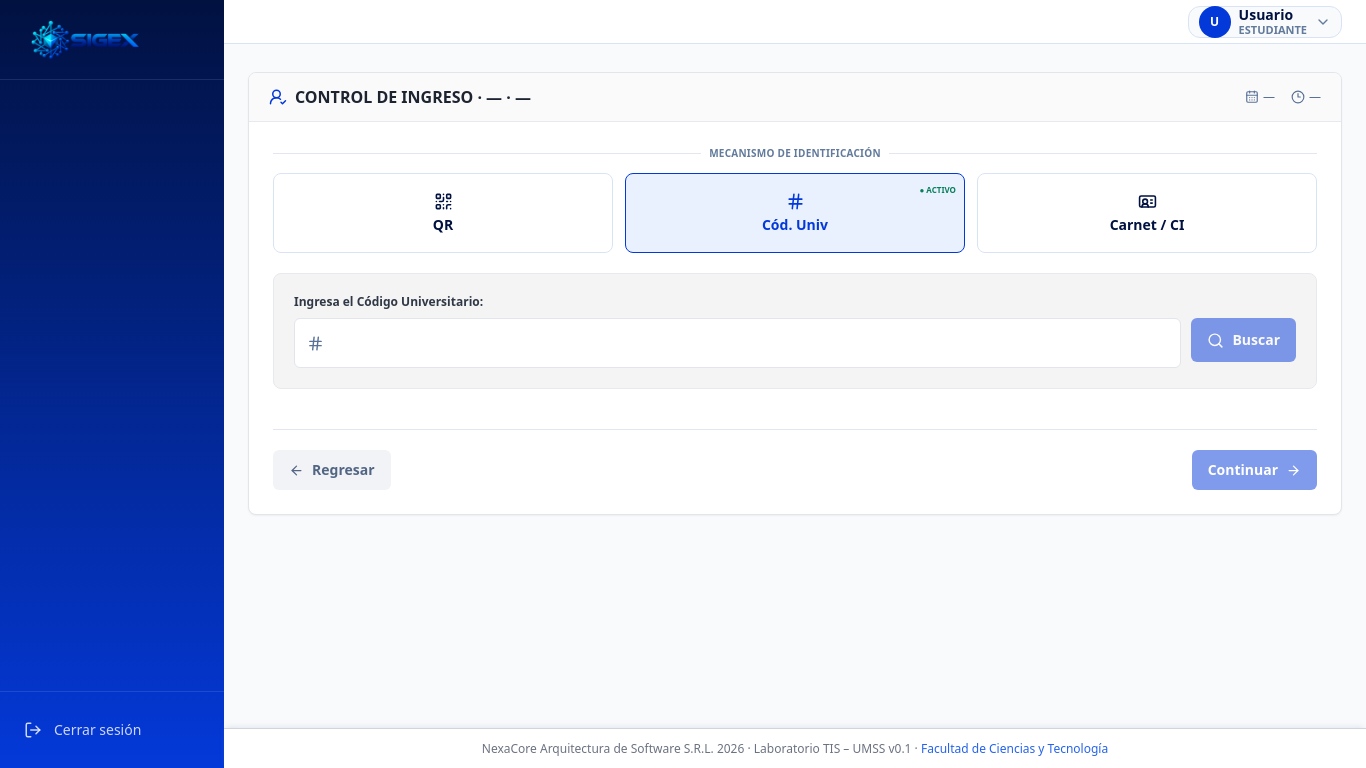
Test: IdentificacionPage › ESTUDIANTE no puede continuar al control de ingreso
Type "202104010" into the field labelled "Ingresa el Código Universitario:" at (751,343), box top-left (334, 319), bottom-right (1168, 367)
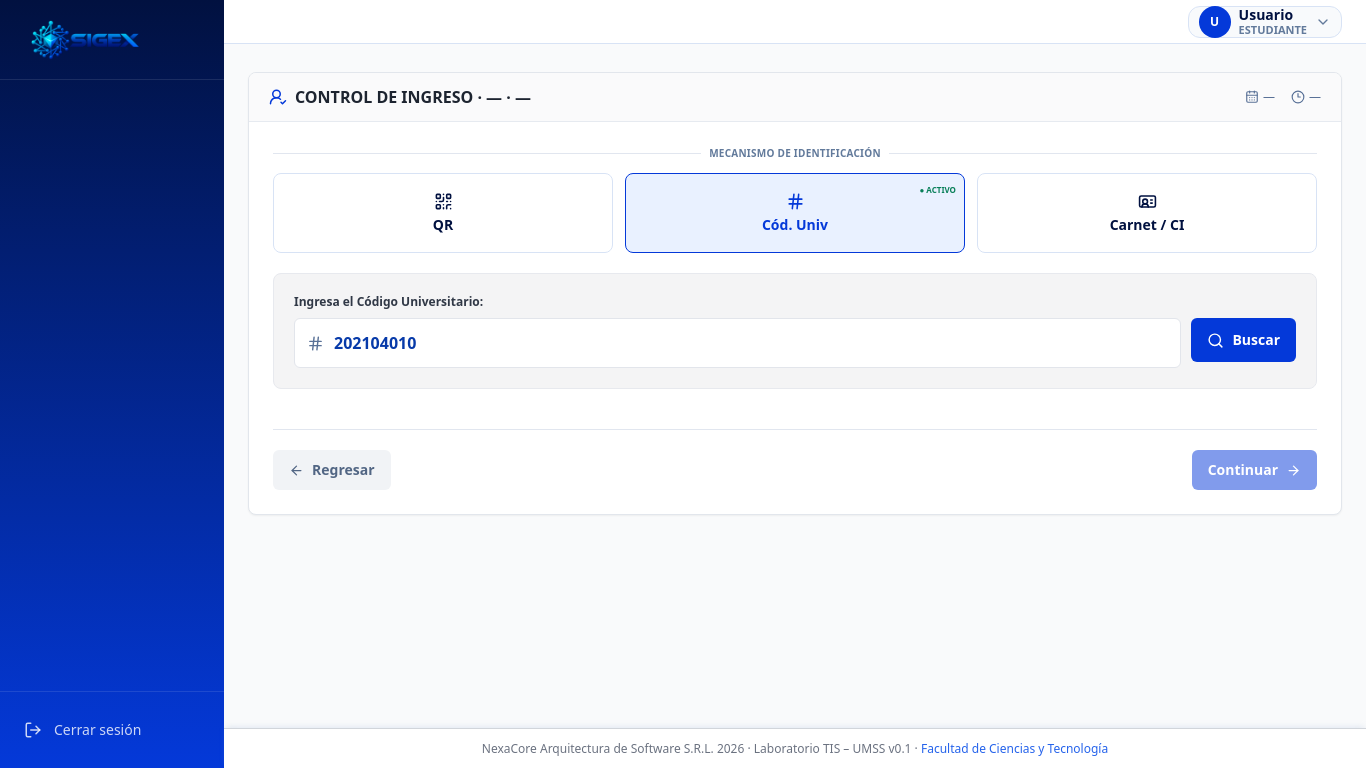
Click the button "Buscar" at (1244,340), box top-left (1191, 318), bottom-right (1296, 362)
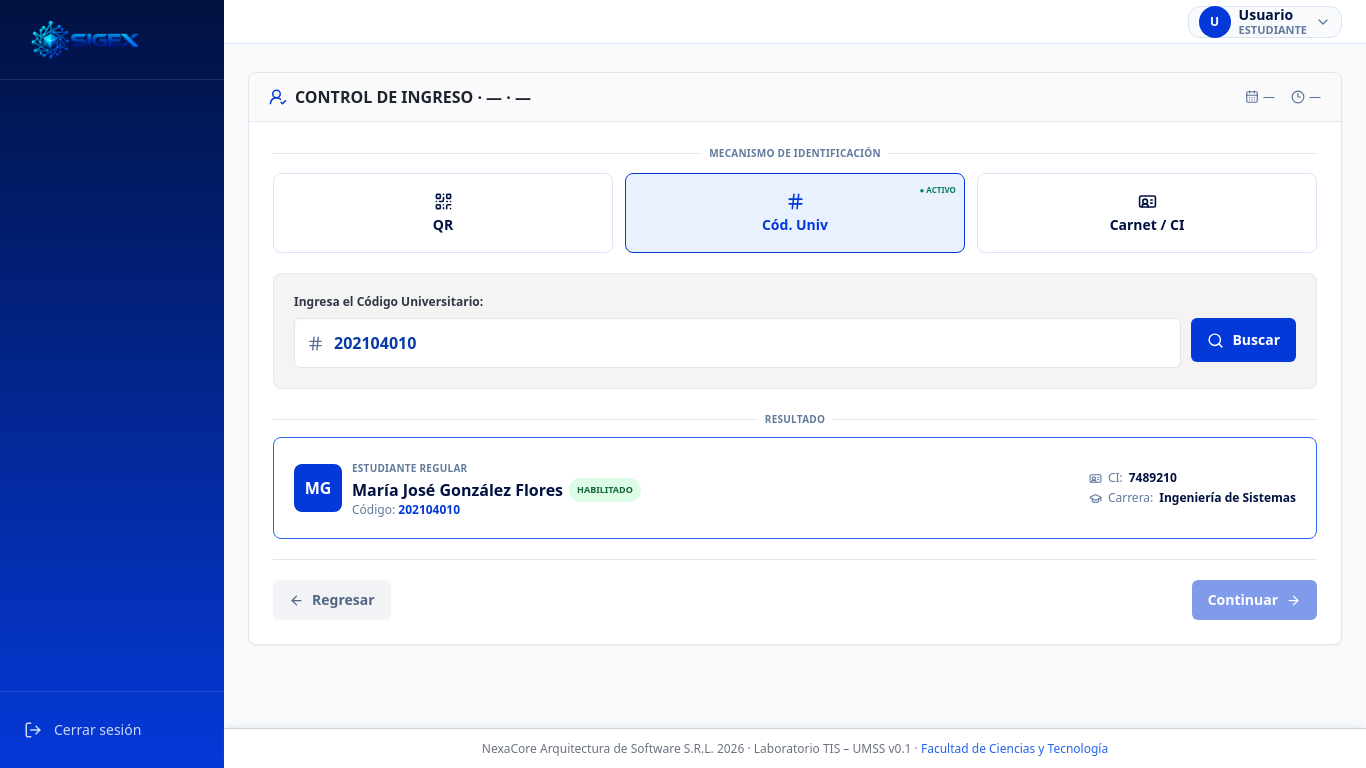
Expected: the button "Continuar" is disabled, top-left (1192, 580), bottom-right (1317, 620)
Expected: the text "María José González Flores" is shown, top-left (352, 478), bottom-right (563, 502)
